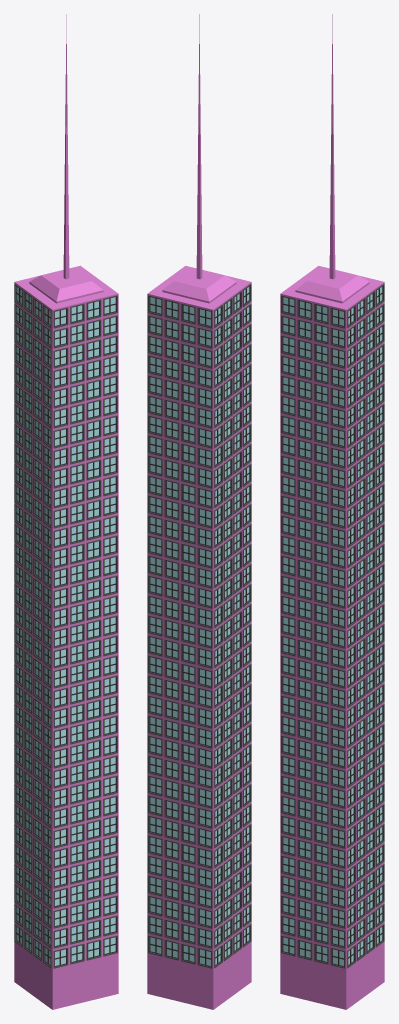
Rendered from Scraper Pnk.fbx.
The picture shows the model from 3 angles, left to right: view 1: azimuth 30°, elevation 25°; view 2: azimuth 150°, elevation 25°; view 3: azimuth 330°, elevation 25°; orthographic projection.
Parts seen in each view (by area): view 1: Cube.004; view 2: Cube.004; view 3: Cube.004.
Part boxes in pixels (x1,y1,x2,y2): Cube.004: [14, 14, 118, 1009]; Cube.004: [147, 14, 251, 1009]; Cube.004: [280, 14, 384, 1009].
Bounding box in the file's own units: 1332 × 18371 × 1332.
